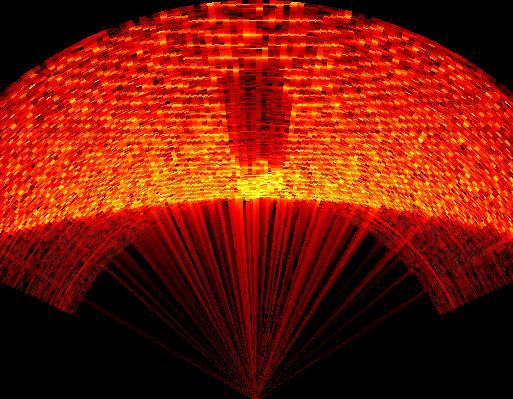box_crate: (216, 60, 295, 181)
